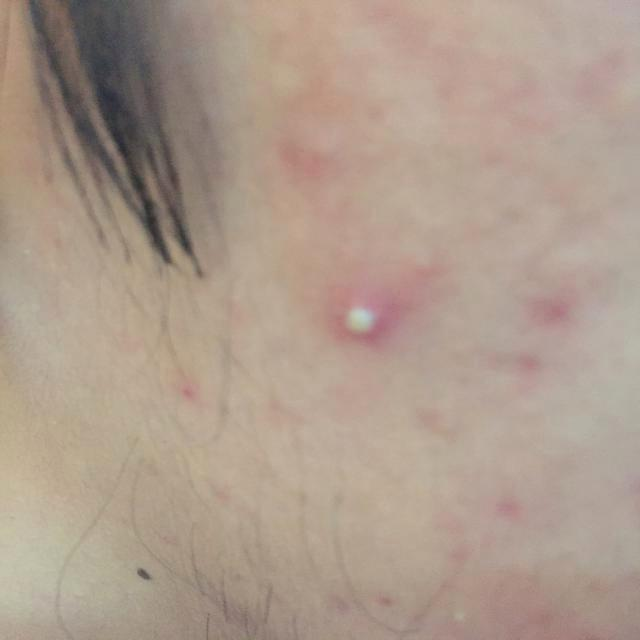Pimples: (318, 287, 419, 352)
